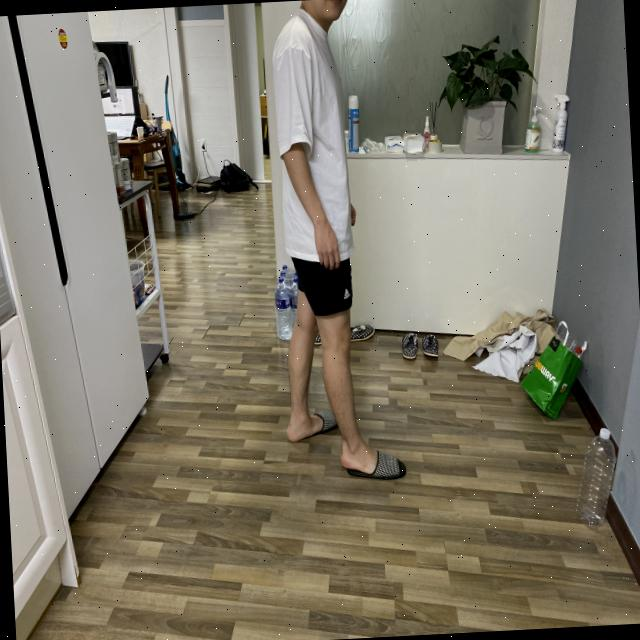no-boots: (328, 436, 418, 498), (275, 406, 345, 454)
